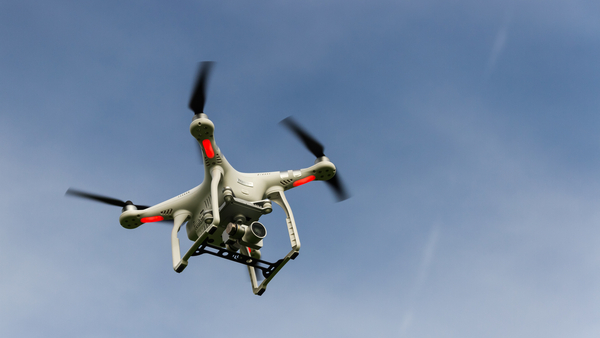drone: (64, 60, 354, 298)
